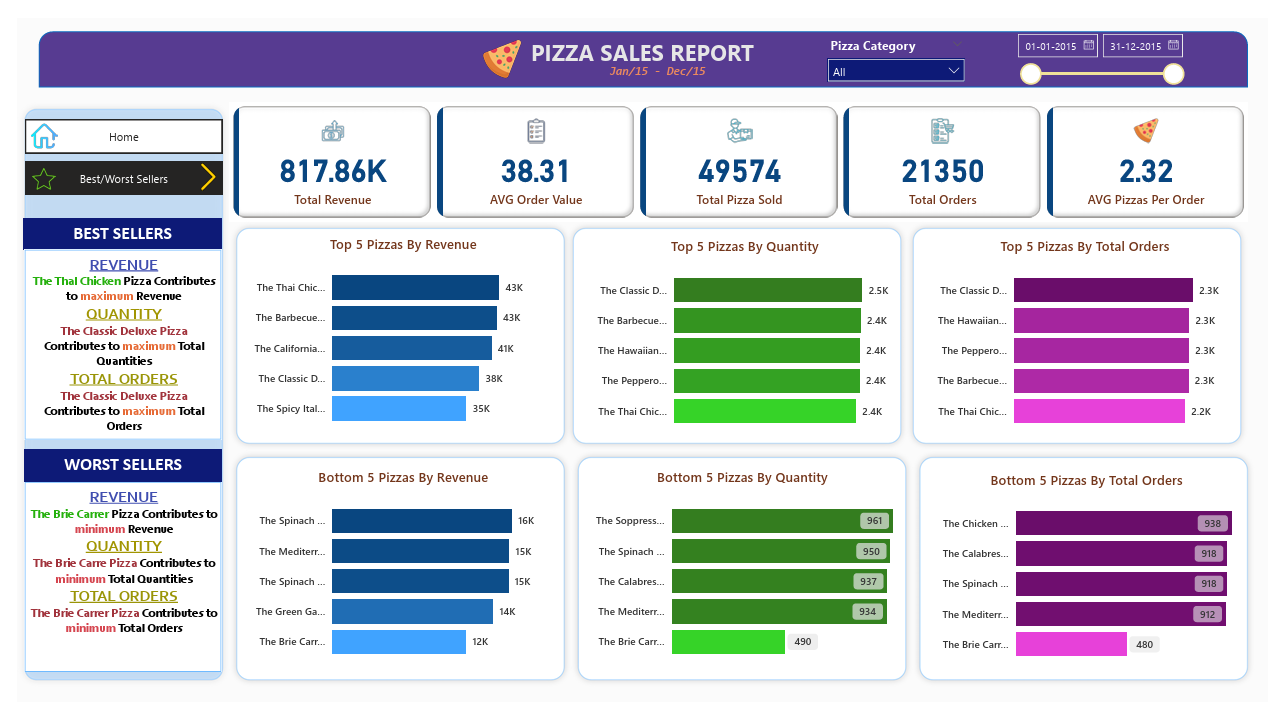

What the dashboard file says about the page in this screenshot:
{"tool":"powerbi","page":{"name":"Best/Worst Sellers","canvas":[1500,820],"ordinal":1},"visuals":[{"type":"cardVisual","fields":{"Data":["pizza_sales.Total Revenue","pizza_sales.AVG Order Value","pizza_sales.Total Pizza Sold","pizza_sales.Total Orders","pizza_sales.AVG Pizzas Per Order"]},"box":[254.1,99.7,1222.1,143.1],"z":0},{"type":"shape","box":[25.1,15.3,1450.7,66.8],"z":1000},{"type":"textbox","box":[580.5,16.1,337.7,48.2],"z":2000},{"type":"textbox","box":[687.1,48.4,161.3,38.7],"z":3000},{"type":"image","box":[538.7,19.3,83.6,57.9],"z":4000},{"type":"shape","box":[0,99.7,254.1,702.7],"z":5000},{"type":"textbox","box":[6.7,238.7,237.3,38.7],"z":6000},{"type":"textbox","box":[8,277.3,236,228],"z":7000},{"type":"textbox","box":[8,517.3,236,38.7],"z":8000},{"type":"textbox","box":[8,556,236,228],"z":9000},{"type":"slicer","fields":{"Values":["pizza_sales.pizza_category"]},"box":[962.3,16.4,183.6,60.7],"z":10000},{"type":"slicer","fields":{"Values":["pizza_sales.order_date"]},"box":[1186.9,8.2,221.3,83.6],"z":11000},{"type":"shape","box":[657.7,242.8,410,275],"z":12000},{"type":"shape","box":[1066.1,242.8,410.1,275],"z":13000},{"type":"shape","box":[254.1,242.8,410,275],"z":14000},{"type":"shape","box":[254.1,517.8,410.1,284.6],"z":15000},{"type":"shape","box":[664.1,517.8,410.1,284.6],"z":16000},{"type":"shape","box":[1074.2,517.8,410.1,284.6],"z":17000},{"type":"barChart","title":"Top 5 Pizzas By Revenue","fields":{"Category":["pizza_sales.pizza_name"],"Y":["pizza_sales.Total Revenue"]},"box":[266.9,258.9,390.8,242.8],"z":18000},{"type":"barChart","title":"Bottom 5 Pizzas By Revenue","fields":{"Category":["pizza_sales.pizza_name"],"Y":["pizza_sales.Total Revenue"]},"box":[266.9,538.7,390.8,242.8],"z":19000},{"type":"barChart","title":"Top 5 Pizzas By Quantity","fields":{"Category":["pizza_sales.pizza_name"],"Y":["pizza_sales.Total Pizza Sold"]},"box":[677,262.1,390.8,242.8],"z":20000},{"type":"barChart","title":"Bottom 5 Pizzas By Quantity","fields":{"Category":["pizza_sales.pizza_name"],"Y":["pizza_sales.Total Pizza Sold"]},"box":[673.8,538.7,390.8,242.8],"z":21000},{"type":"barChart","title":"Top 5 Pizzas By Total Orders","fields":{"Category":["pizza_sales.pizza_name"],"Y":["pizza_sales.Total Orders"]},"box":[1085.4,262.1,390.8,242.8],"z":22000},{"type":"barChart","title":"Bottom 5 Pizzas By Total Orders","fields":{"Category":["pizza_sales.pizza_name"],"Y":["pizza_sales.Total Orders"]},"box":[1087.1,541.9,390.8,242.8],"z":23000},{"type":"pageNavigator","box":[9.1,121.2,236.4,39.4],"z":24000},{"type":"pageNavigator","box":[9.1,171.2,236.4,39.4],"z":25000},{"type":"image","box":[201.5,168.2,53,42.4],"z":26000},{"type":"image","box":[9.1,119.7,43.9,40.9],"z":27000},{"type":"image","box":[12.1,171.2,37.9,40.9],"z":28000}]}

Visuals, with their boxes in screenshot pixels (x1, y1, x2, y2), scaled from the page's 1500x820 canvas onto the 1281x713 screenshot:
cardVisual - pizza_sales.Total Revenue x pizza_sales.AVG Order Value: 217/87/1261/211
shape: 21/13/1260/71
textbox: 496/14/784/56
textbox: 587/42/725/76
image: 460/17/531/67
shape: 0/87/217/698
textbox: 6/208/208/241
textbox: 7/241/208/439
textbox: 7/450/208/483
textbox: 7/483/208/682
slicer - pizza_sales.pizza_category: 822/14/979/67
slicer - pizza_sales.order_date: 1014/7/1203/80
shape: 562/211/912/450
shape: 910/211/1261/450
shape: 217/211/567/450
shape: 217/450/567/698
shape: 567/450/917/698
shape: 917/450/1268/698
"Top 5 Pizzas By Revenue" barChart: 228/225/562/436
"Bottom 5 Pizzas By Revenue" barChart: 228/468/562/680
"Top 5 Pizzas By Quantity" barChart: 578/228/912/439
"Bottom 5 Pizzas By Quantity" barChart: 575/468/909/680
"Top 5 Pizzas By Total Orders" barChart: 927/228/1261/439
"Bottom 5 Pizzas By Total Orders" barChart: 928/471/1262/682
pageNavigator: 8/105/210/140
pageNavigator: 8/149/210/183
image: 172/146/217/183
image: 8/104/45/140
image: 10/149/43/184
